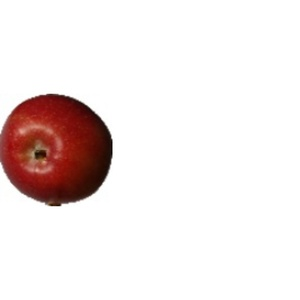maçã braeburn: (1, 93, 115, 208)
